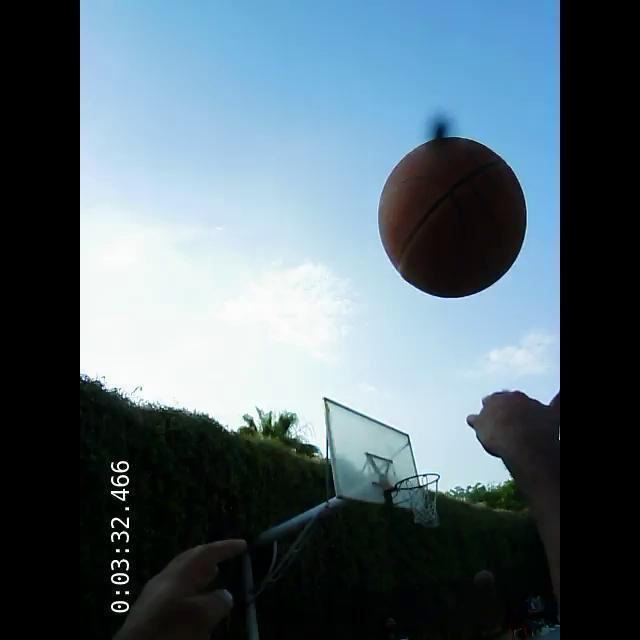ball: (377, 134, 527, 298)
